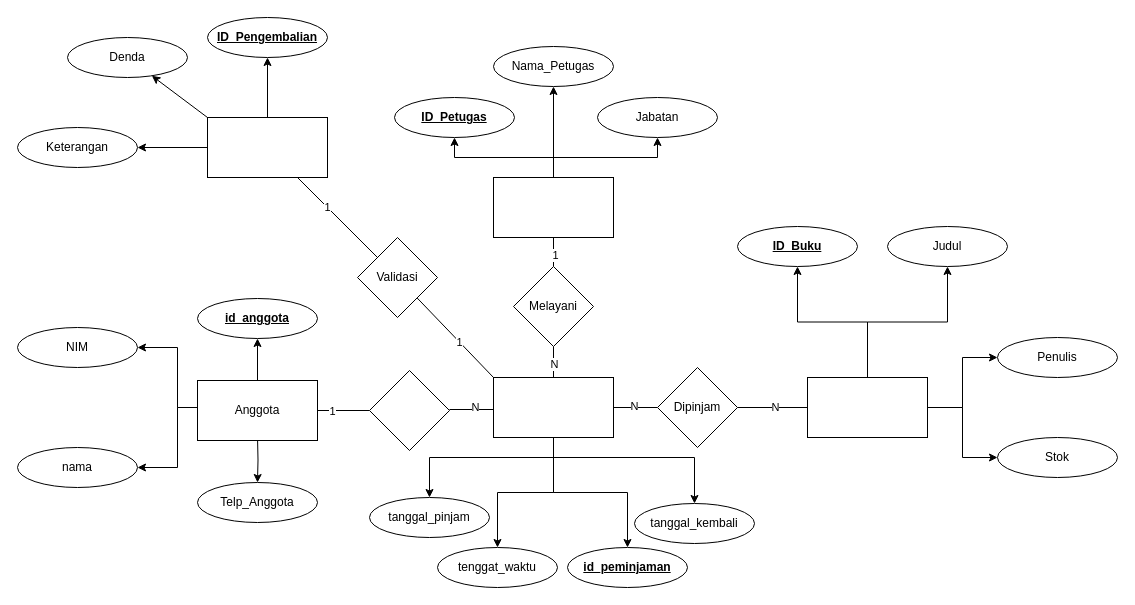
This 1135x605 diagram has some shape labels left out. The centre of each missing label's shape, as x and y in pixels:
"Buku" goes at (867,407).
"Melakukan" goes at (409,410).
"Peminjaman" goes at (553,407).
"Pengembalian" goes at (267,147).
"Petugas" goes at (553,207).
